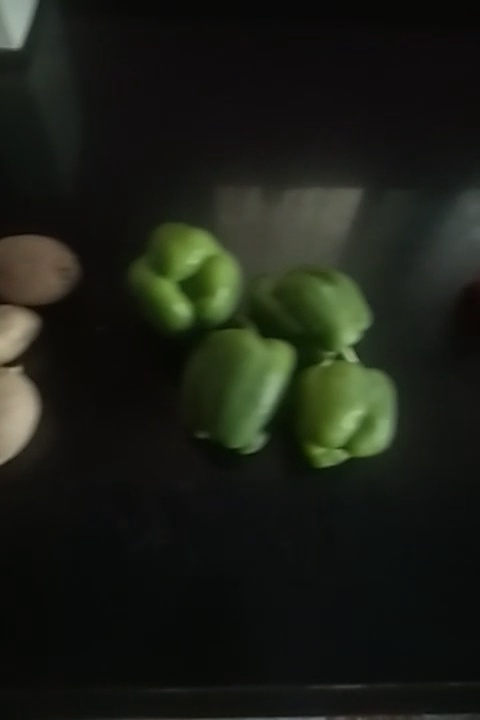capsicum: (294, 346, 395, 479), (187, 327, 293, 444), (250, 263, 373, 361), (133, 227, 241, 329)
potato: (3, 229, 80, 309), (1, 362, 49, 460), (1, 304, 50, 361)
